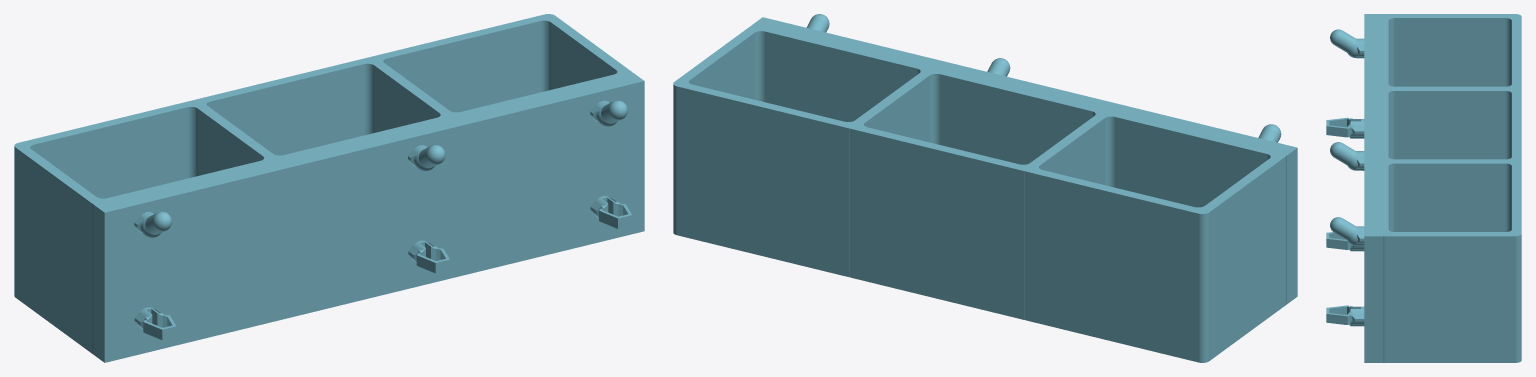
File: part-pb04__current-mounts-v1__fit-pf02c9-hoop5__print.glb
3 views of the same model, side by side, from view 1: azimuth 30°, elevation 25°; view 2: azimuth 150°, elevation 25°; view 3: azimuth 270°, elevation 25° (orthographic). The views are drawn at different scales.
Parts seen in each view (by area): view 1: print.stl; view 2: print.stl; view 3: print.stl.
Boxes of the visible parts, x1,y1,x2,y2 form: print.stl: (14,14,644,362); print.stl: (673,14,1297,362); print.stl: (1326,14,1521,362).
Size of the model in its own units: 0.1504 by 0.0403 by 0.0559.
